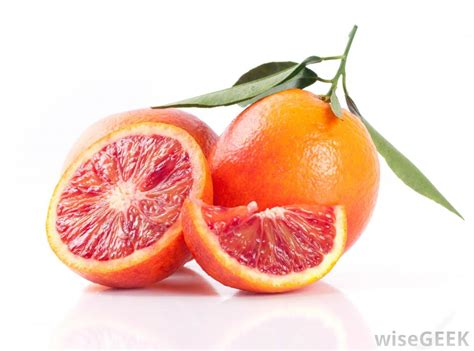orange: (210, 81, 379, 245)
